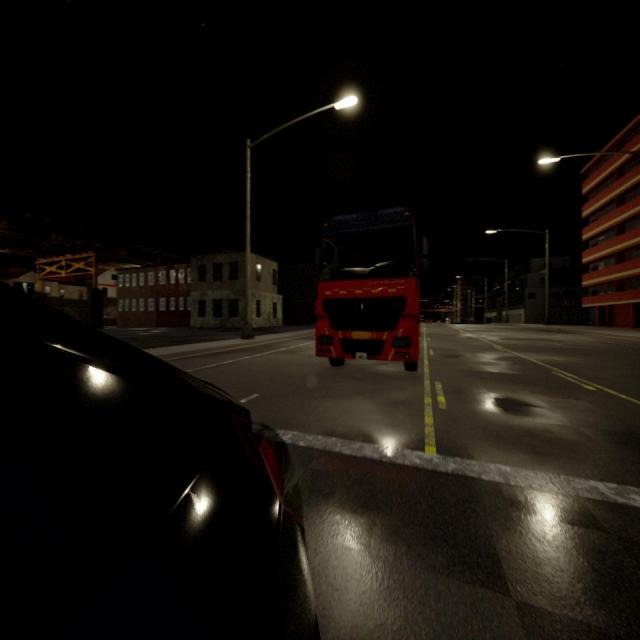Vehicle: (1, 290, 311, 640), (316, 214, 419, 368)
traffic_light: (446, 306, 448, 309), (439, 306, 441, 308)
